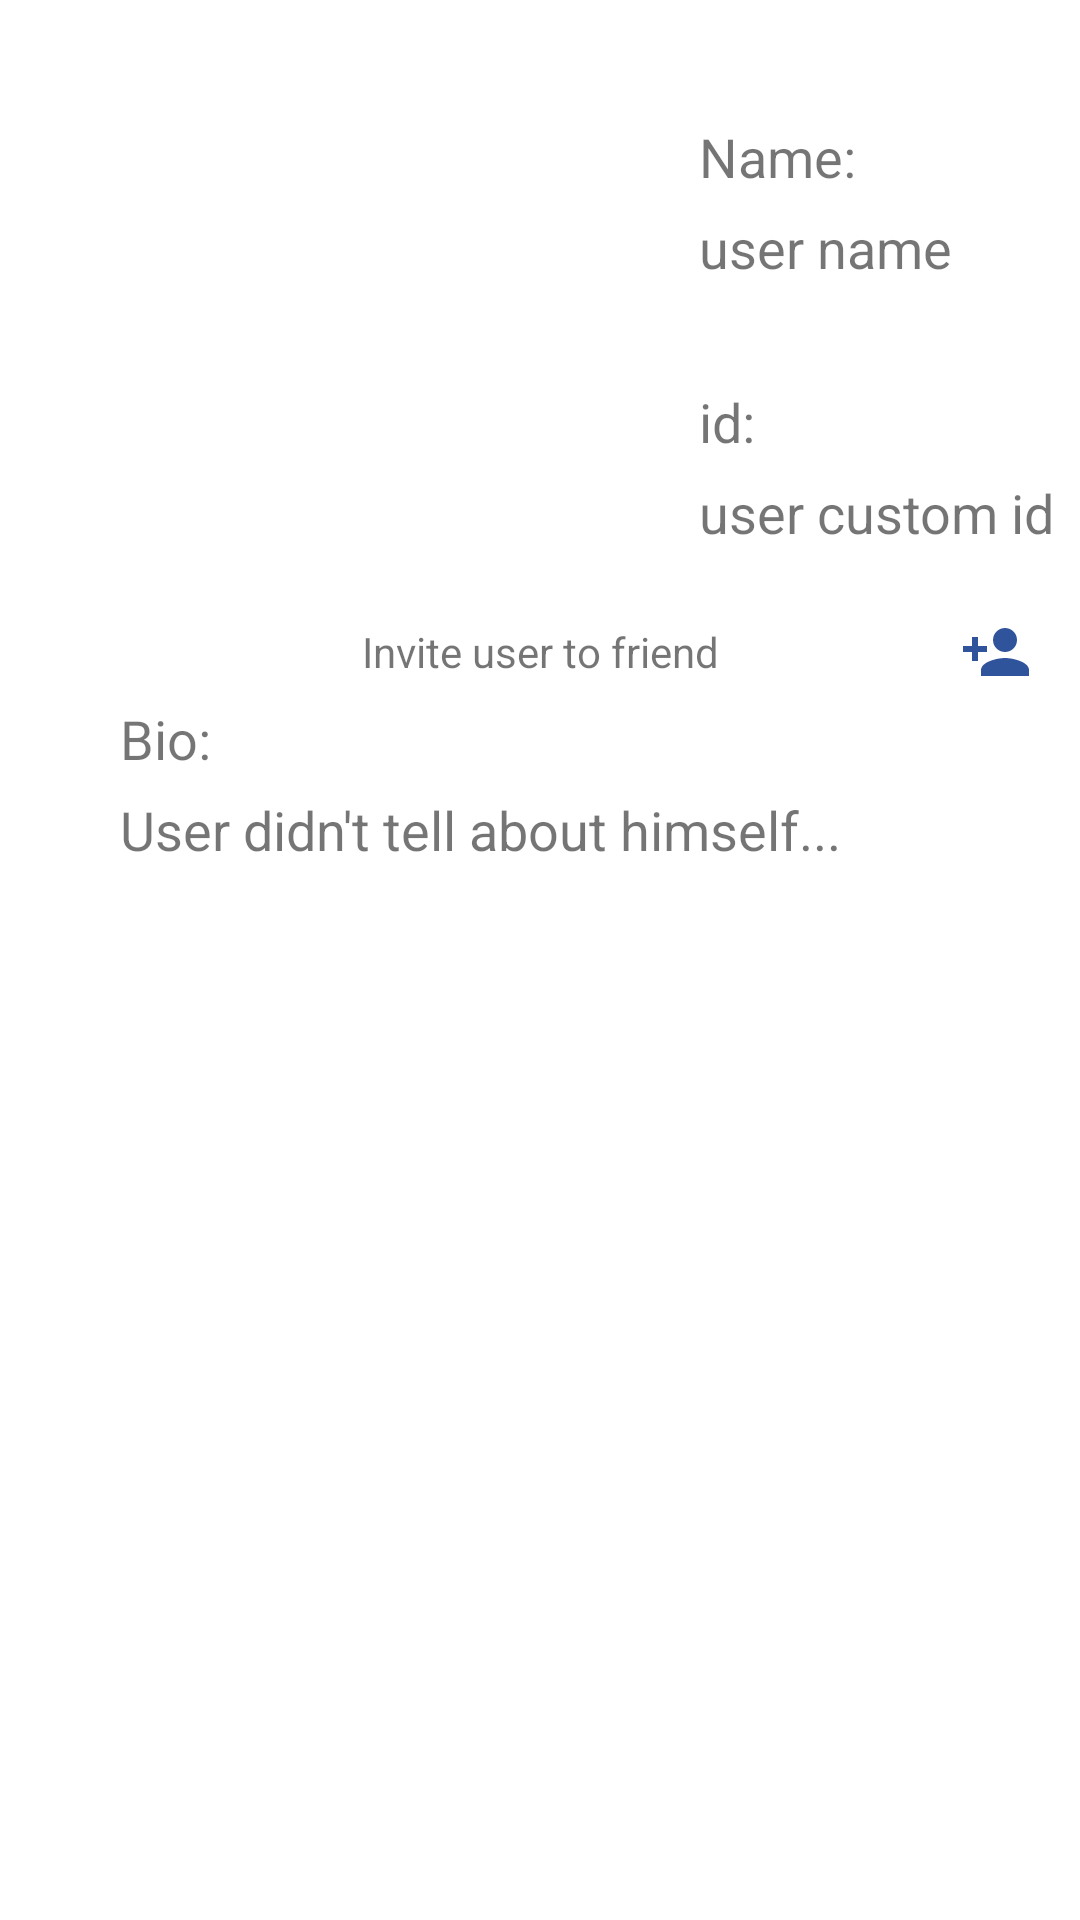

Locate icon controls on the screen. Image size 1080x1920, boxes as (x1, y1, x2, y2).
add friend: (963, 628, 1029, 676)
